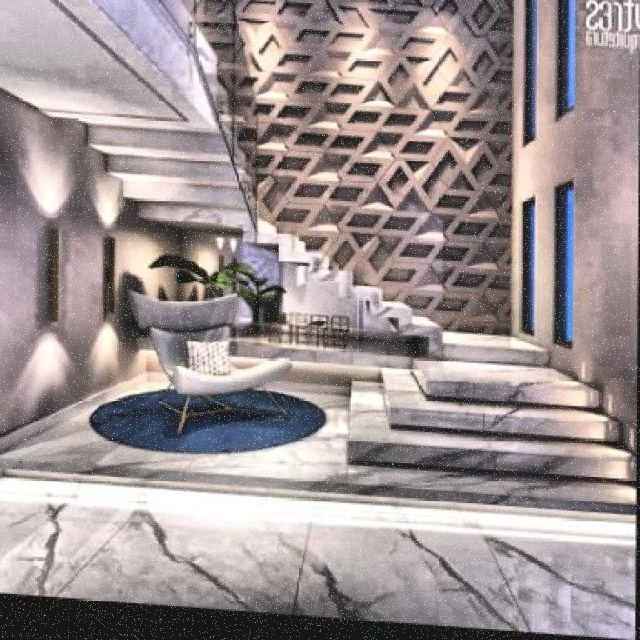stair: (335, 328, 637, 497)
